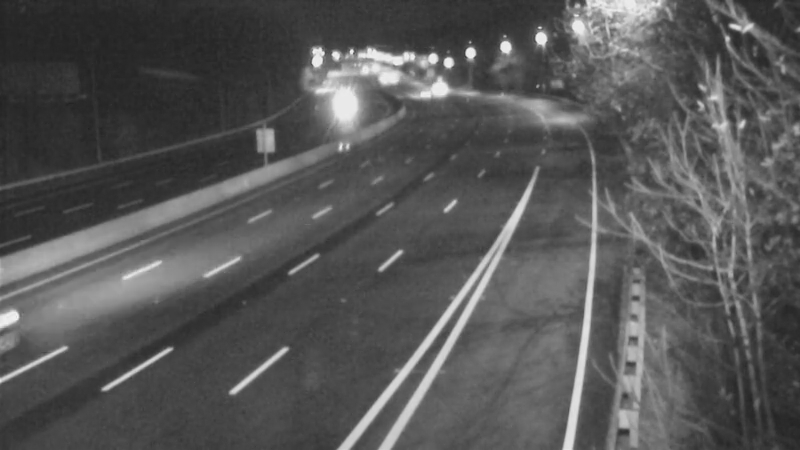vehicle: (412, 61, 462, 111), (396, 69, 446, 119), (317, 79, 367, 129)
